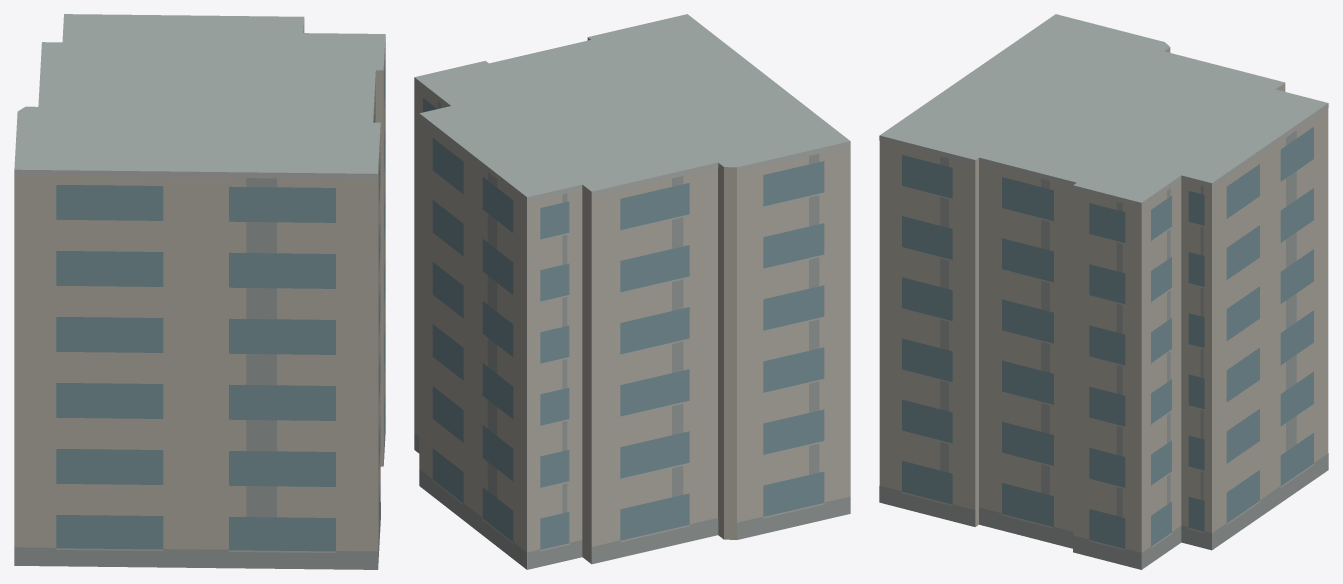
Rendered from survey-upis-32999196.glb.
The picture shows the model from 3 angles, left to right: view 1: azimuth 30°, elevation 25°; view 2: azimuth 150°, elevation 25°; view 3: azimuth 270°, elevation 25°; orthographic projection. The views are drawn at different scales.
Parts seen in each view (by area): view 1: survey-upis-32999196.tmp; view 2: survey-upis-32999196.tmp; view 3: survey-upis-32999196.tmp.
Part boxes in pixels (box(x1,y1,x2,y2)): survey-upis-32999196.tmp: box(14, 14, 385, 569); survey-upis-32999196.tmp: box(414, 14, 850, 569); survey-upis-32999196.tmp: box(879, 14, 1328, 569).
Size of the model in its own units: 18.76 by 17 by 18.85.
